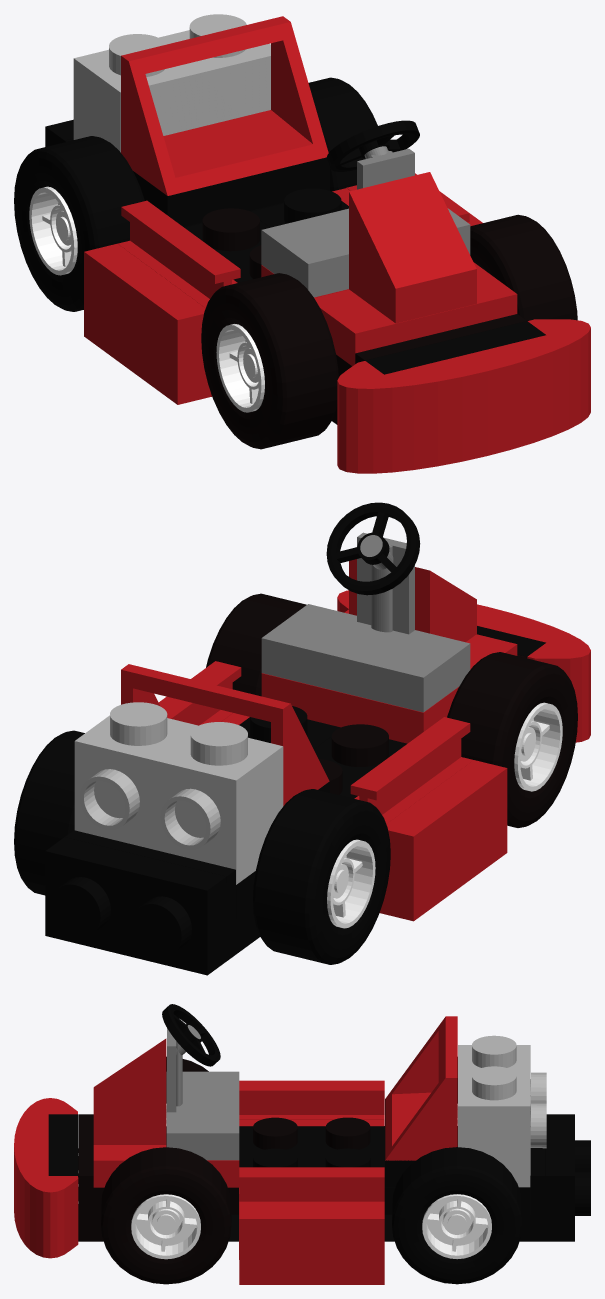
Rendered from kart_color.fbx.
3 views of the same model, one above another, from view 1: azimuth 30°, elevation 25°; view 2: azimuth 150°, elevation 25°; view 3: azimuth 270°, elevation 25° (orthographic). The views are drawn at different scales.
Parts seen in each view (by area): view 1: Cylinder, spoiler, Cylinder.085, body l, Cylinder.072, test 1x2 plate.012, Cylinder.089, 1x1.005, test 1x2 plate.009, test 1x2 plate.013, test 1x2 plate.015, 1x1.002 (+17 smaller); view 2: Cylinder.072, test 1x2 plate.013, body l, test 1x2 plate.008, Cylinder.085, 1x1.005, 1x1.002, spoiler, Cylinder.076, test 1x2 plate.010, Cylinder, Cylinder.089 (+28 smaller); view 3: body l.001, Cylinder.076, Cylinder.089, spoiler, Cylinder, test 1x2 plate.013, 1x1.002, test 1x2 plate.012, test 1x2 plate.008, test 1x2 plate.004, test 1x2 plate.001, test 1x2 plate.005 (+36 smaller).
Boxes of the visible parts, left/top/right/bottom form: Cylinder: left=337, top=319, right=590, bottom=473; spoiler: left=121, top=16, right=328, bottom=195; Cylinder.085: left=201, top=273, right=338, bottom=449; body l: left=84, top=243, right=210, bottom=404; Cylinder.072: left=14, top=136, right=144, bottom=311; test 1x2 plate.012: left=349, top=172, right=476, bottom=288; Cylinder.089: left=470, top=214, right=577, bottom=320; 1x1.005: left=73, top=49, right=201, bottom=152; test 1x2 plate.009: left=314, top=262, right=517, bottom=366; test 1x2 plate.013: left=261, top=208, right=470, bottom=297; test 1x2 plate.015: left=133, top=157, right=329, bottom=226; 1x1.002: left=159, top=30, right=270, bottom=126; Cylinder.072: left=253, top=789, right=390, bottom=964; test 1x2 plate.013: left=261, top=604, right=470, bottom=712; body l: left=380, top=760, right=507, bottom=921; test 1x2 plate.008: left=45, top=837, right=226, bottom=975; Cylinder.085: left=447, top=652, right=577, bottom=827; 1x1.005: left=155, top=735, right=283, bottom=884; 1x1.002: left=74, top=715, right=197, bottom=849; spoiler: left=121, top=664, right=329, bottom=805; Cylinder.076: left=14, top=730, right=84, bottom=895; test 1x2 plate.010: left=261, top=673, right=459, bottom=743; Cylinder: left=337, top=590, right=590, bottom=742; Cylinder.089: left=206, top=593, right=306, bottom=696; body l.001: left=239, top=1206, right=384, bottom=1284; Cylinder.076: left=392, top=1147, right=522, bottom=1284; Cylinder.089: left=101, top=1147, right=231, bottom=1284; spoiler: left=385, top=1016, right=457, bottom=1160; Cylinder: left=14, top=1098, right=78, bottom=1258; test 1x2 plate.013: left=166, top=1071, right=239, bottom=1160; 1x1.002: left=458, top=1075, right=530, bottom=1187; test 1x2 plate.012: left=93, top=1038, right=166, bottom=1117; test 1x2 plate.008: left=545, top=1114, right=574, bottom=1241; test 1x2 plate.004: left=239, top=1097, right=384, bottom=1114; test 1x2 plate.001: left=239, top=1080, right=384, bottom=1097; test 1x2 plate.005: left=239, top=1184, right=384, bottom=1201.
Bounding box in the file's own units: 0.6327 × 0.5228 × 1.24.
